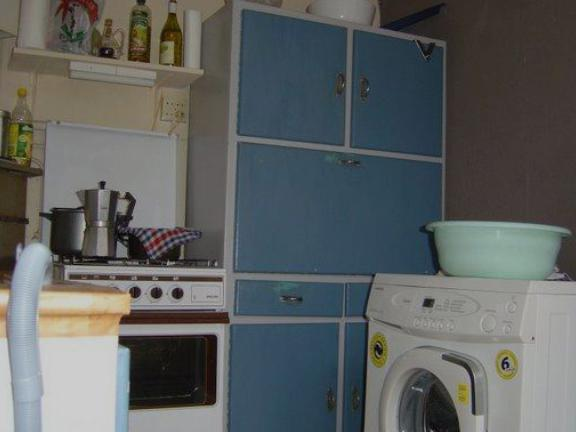Electrodomestico: (366, 277, 576, 432), (66, 262, 225, 432)
